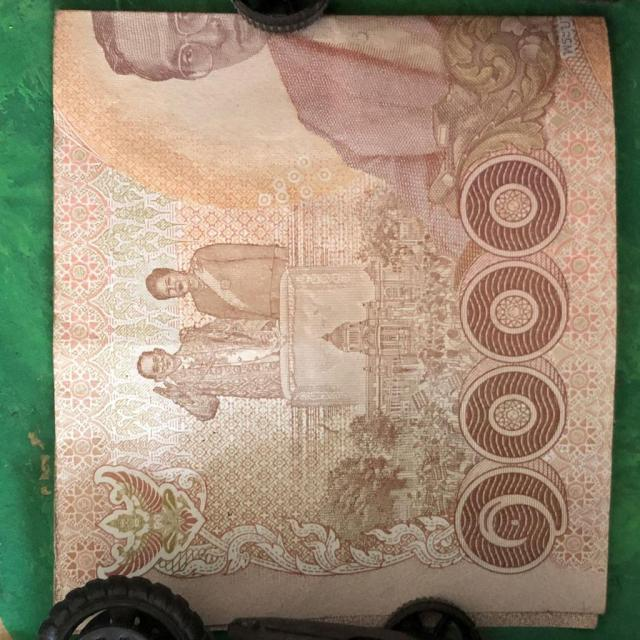THAI1000: (54, 11, 616, 629)
